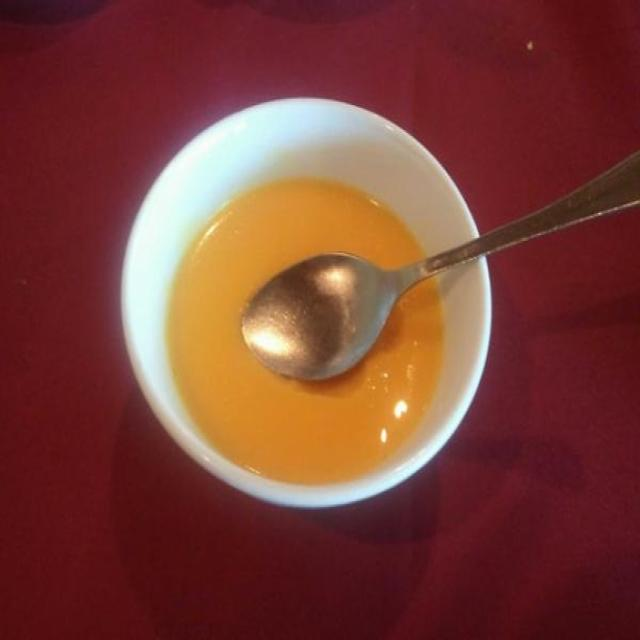蛋糕甜品: (111, 88, 494, 514)
